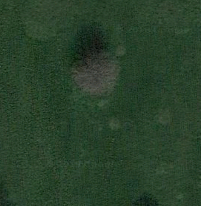tree: (72, 48, 123, 102)
